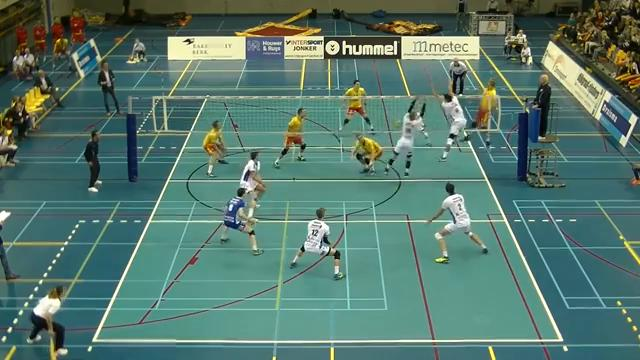attacco: (458, 76, 500, 151)
muro: (380, 85, 428, 182), (426, 74, 475, 167)
